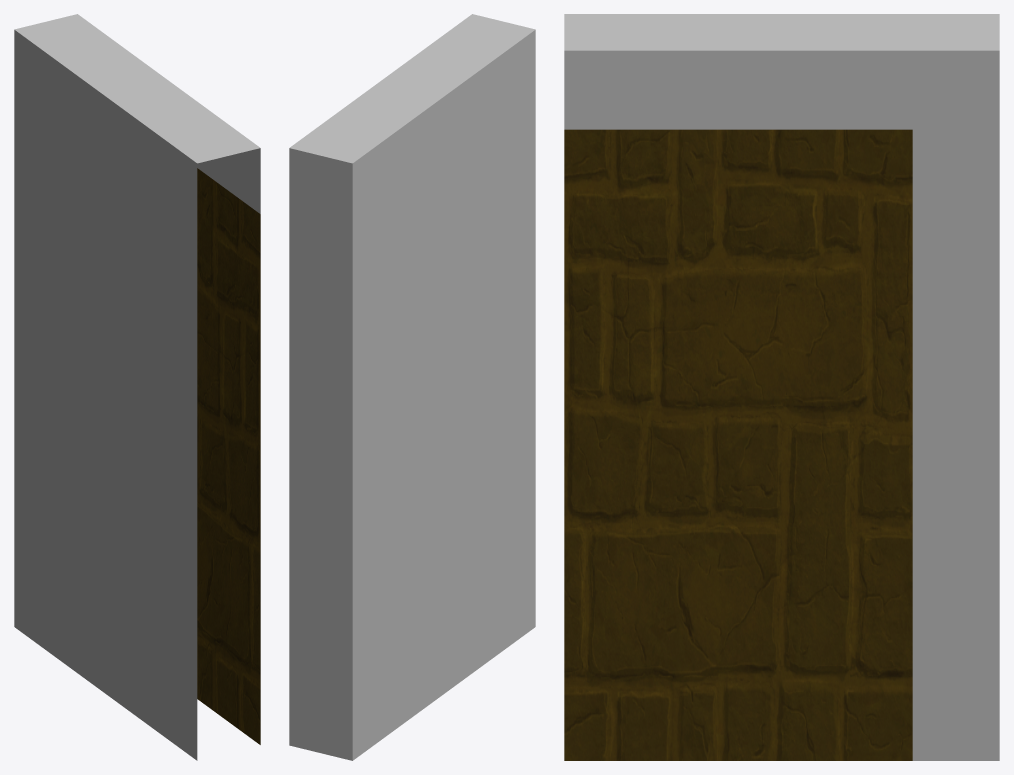
File: WallShortDoubleJoin.fbx
The picture shows the model from 3 angles, left to right: view 1: azimuth 30°, elevation 25°; view 2: azimuth 150°, elevation 25°; view 3: azimuth 270°, elevation 25°; orthographic projection. The views are drawn at different scales.
Parts seen in each view (by area): view 1: WallShortDoubleJoin; view 2: WallShortDoubleJoin; view 3: WallShortDoubleJoin.
Boxes of the visible parts, bbox=[...] form: WallShortDoubleJoin: bbox=[14, 14, 260, 760]; WallShortDoubleJoin: bbox=[289, 14, 535, 760]; WallShortDoubleJoin: bbox=[564, 14, 999, 760].
Size of the model in its own units: 1 by 9 by 5.
